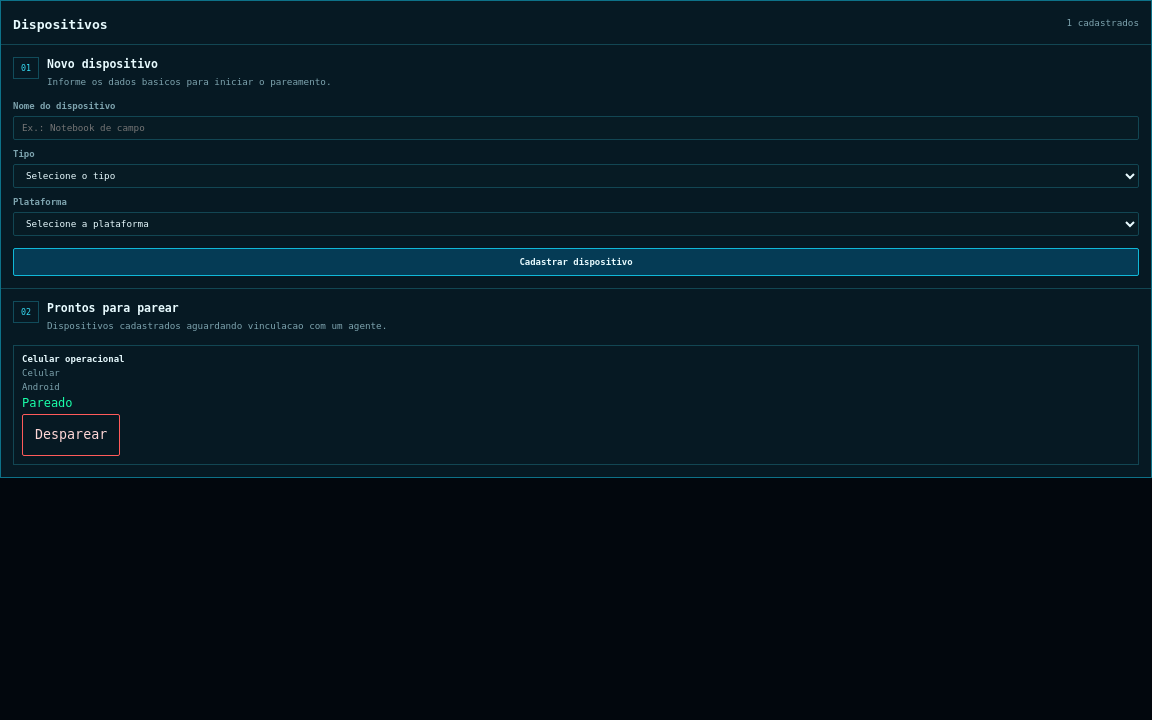
it: DeviceRegistrationComponentTests › opensAndCancelsDangerousUnpairingConfirmationTests
Click the button with class "unpair-action" at (71, 435), box [22, 414, 120, 456]
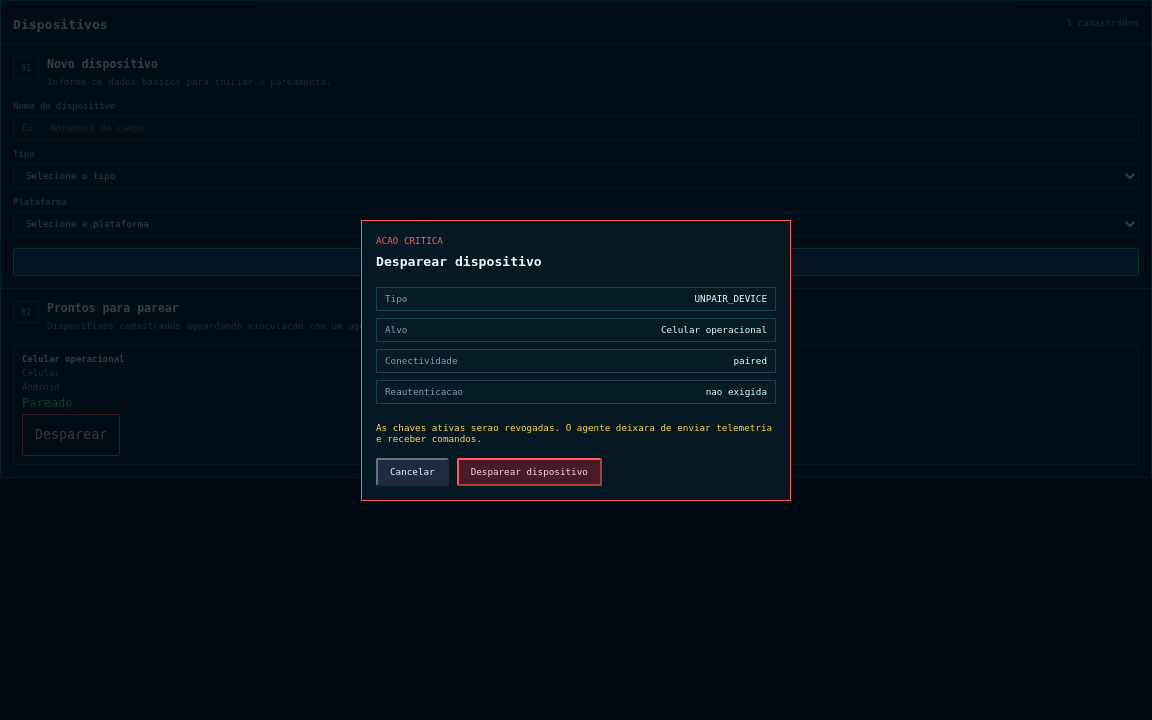
Now the dialog shows "Desparear dispositivo", box [376, 254, 542, 268]
Now the text "As chaves ativas serao revogadas" is shown, box [376, 422, 772, 444]
Now the button with class "secondary-action" is shown
Click the button with class "secondary-action" at (412, 472), box [376, 458, 449, 486]
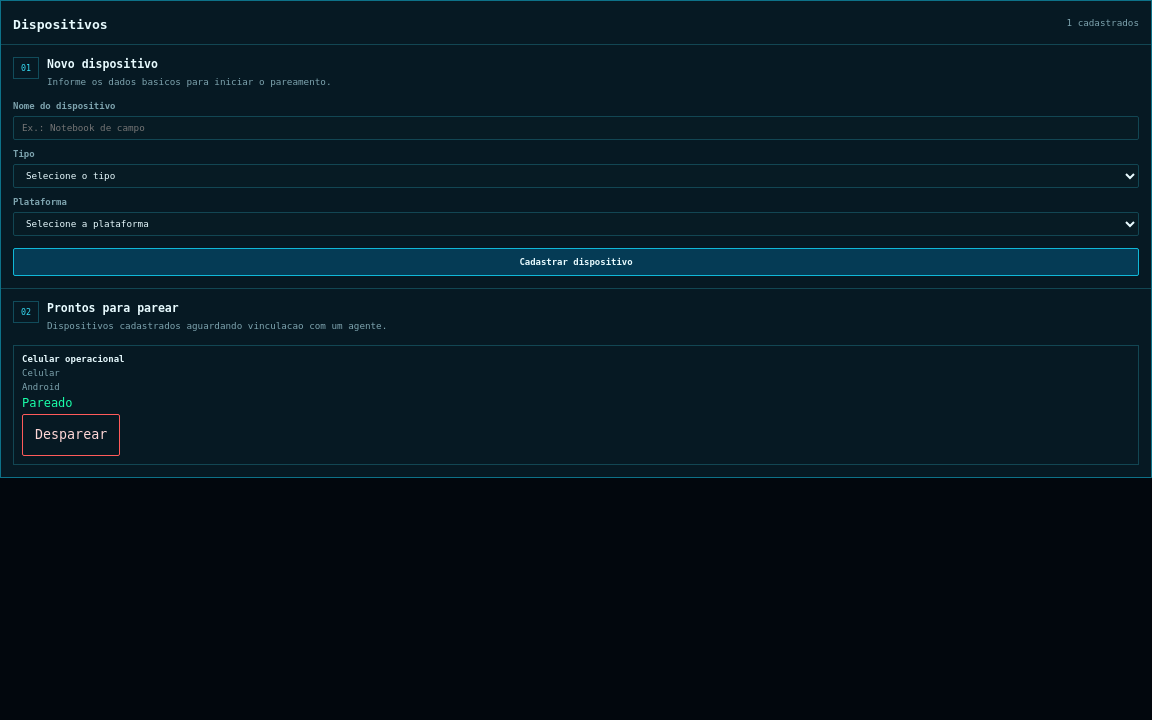
Now the dialog is gone
